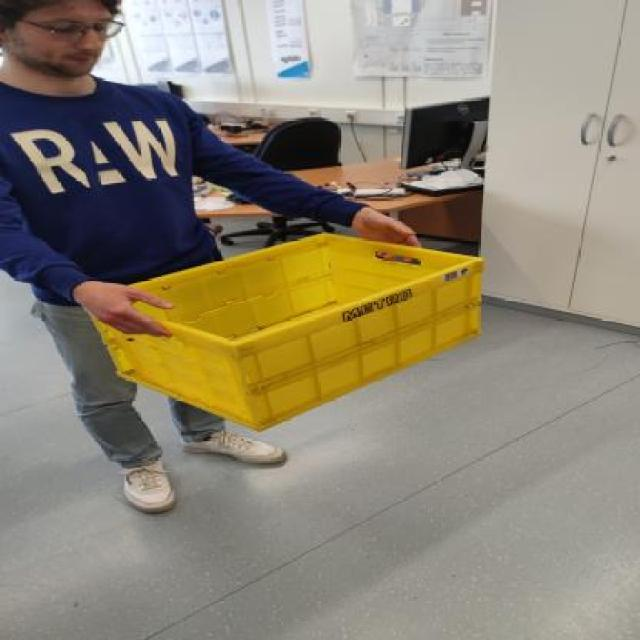box: (61, 235, 517, 428)
